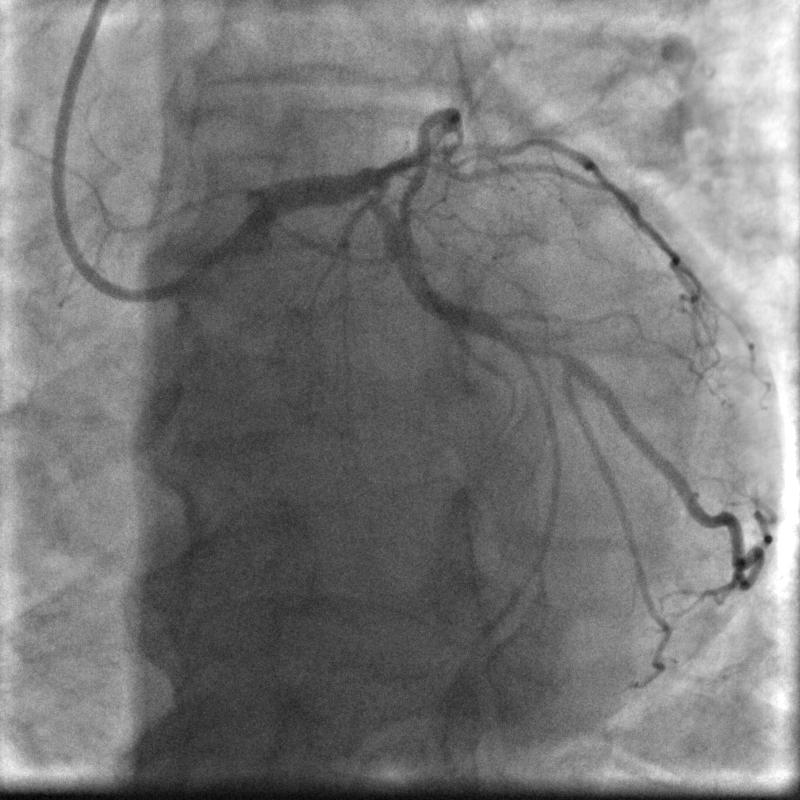Stenosis: (514, 330, 572, 364)
